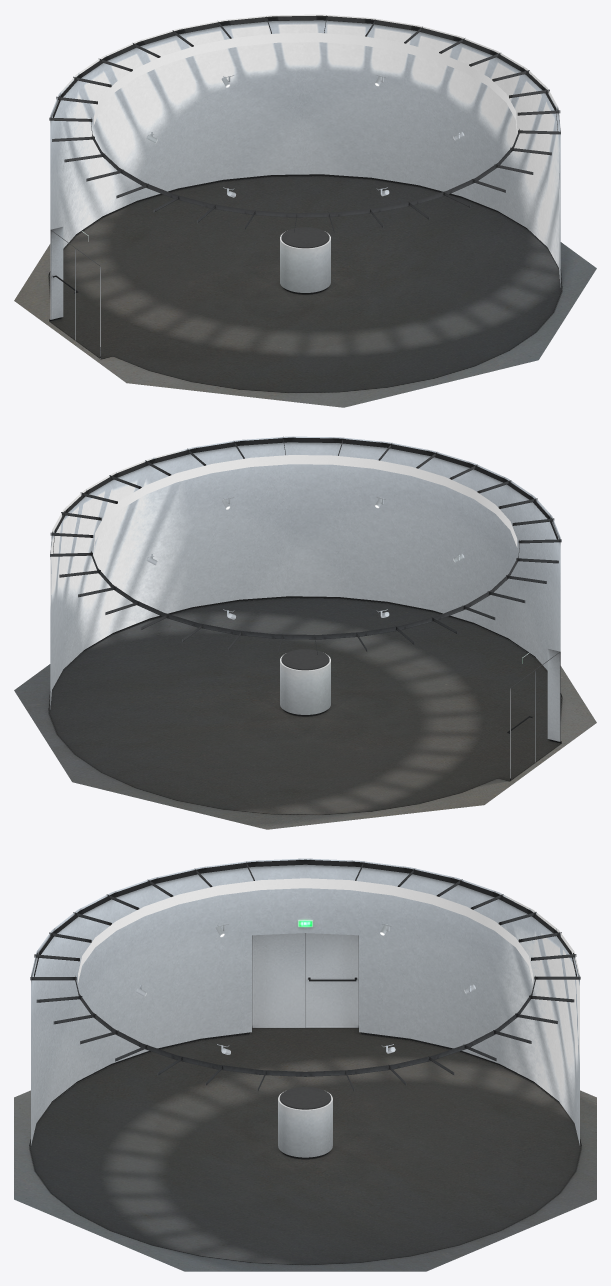
File: vr_round_art_gallery.glb
The picture shows the model from 3 angles, top to bottom: view 1: azimuth 30°, elevation 25°; view 2: azimuth 150°, elevation 25°; view 3: azimuth 270°, elevation 25°; orthographic projection. The views are drawn at different scales.
Parts seen in each view (by area): view 1: RoomBaked; view 2: RoomBaked; view 3: RoomBaked.
Boxes of the visible parts, <box> form: RoomBaked: <box>14,14,596,407</box>; RoomBaked: <box>14,436,596,829</box>; RoomBaked: <box>14,858,596,1271</box>.
Size of the model in its own units: 10.62 by 3.5 by 10.62.
1 material, 1 textured.
